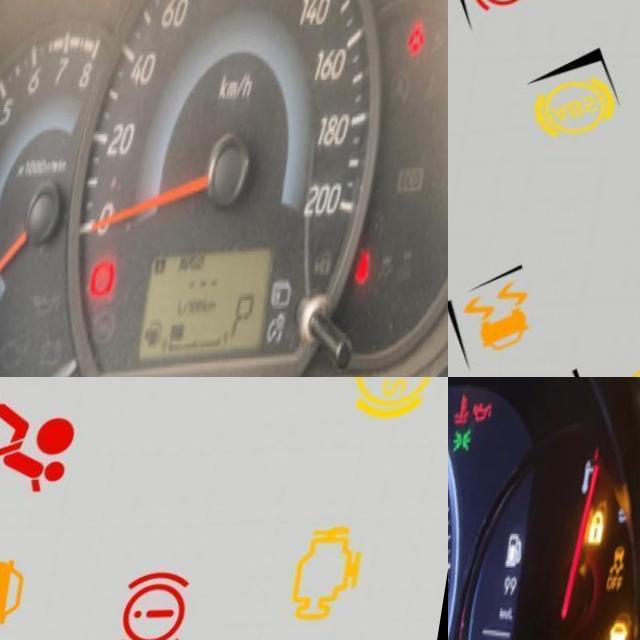High Engine Coolant Temperature: (457, 395, 477, 429)
